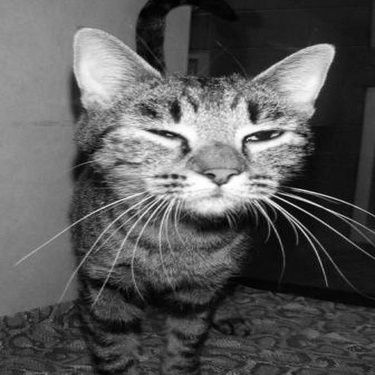cat: (38, 20, 335, 363)
